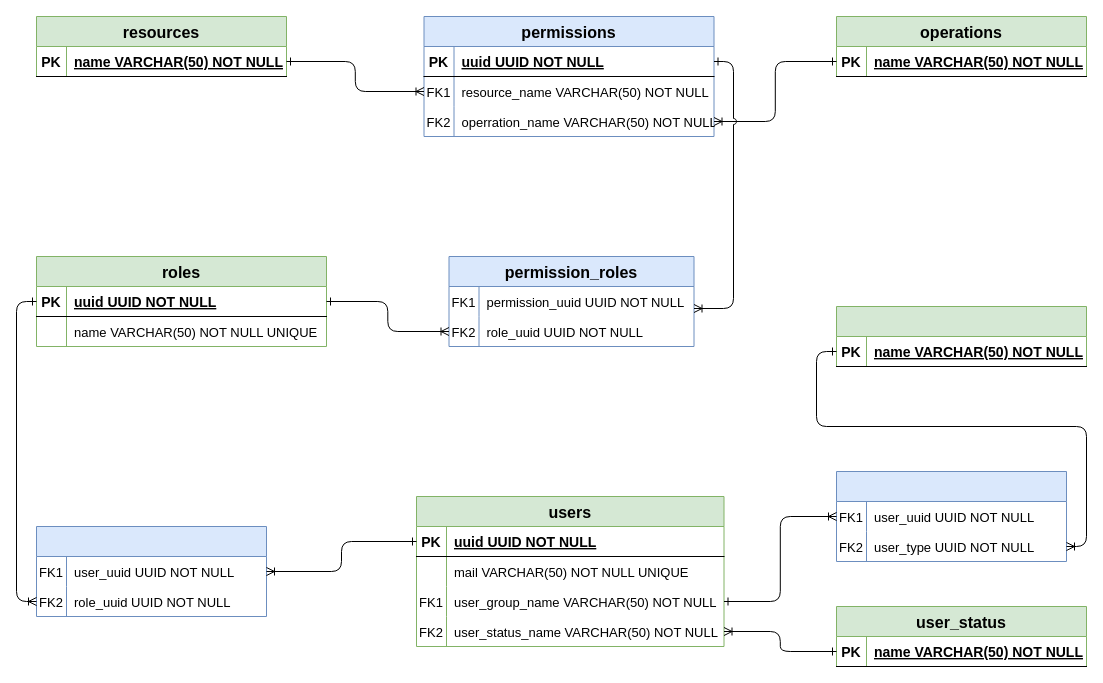
The diagram is 1103 pixels wide and 683 high, and some of its shapes have lost their labels. The box of each missing label's shape, as (x1, y1, x2, y2) in pixels:
user_groups: (836, 470, 1066, 562)
user_roles: (36, 526, 266, 616)
user_types: (836, 306, 1086, 366)
